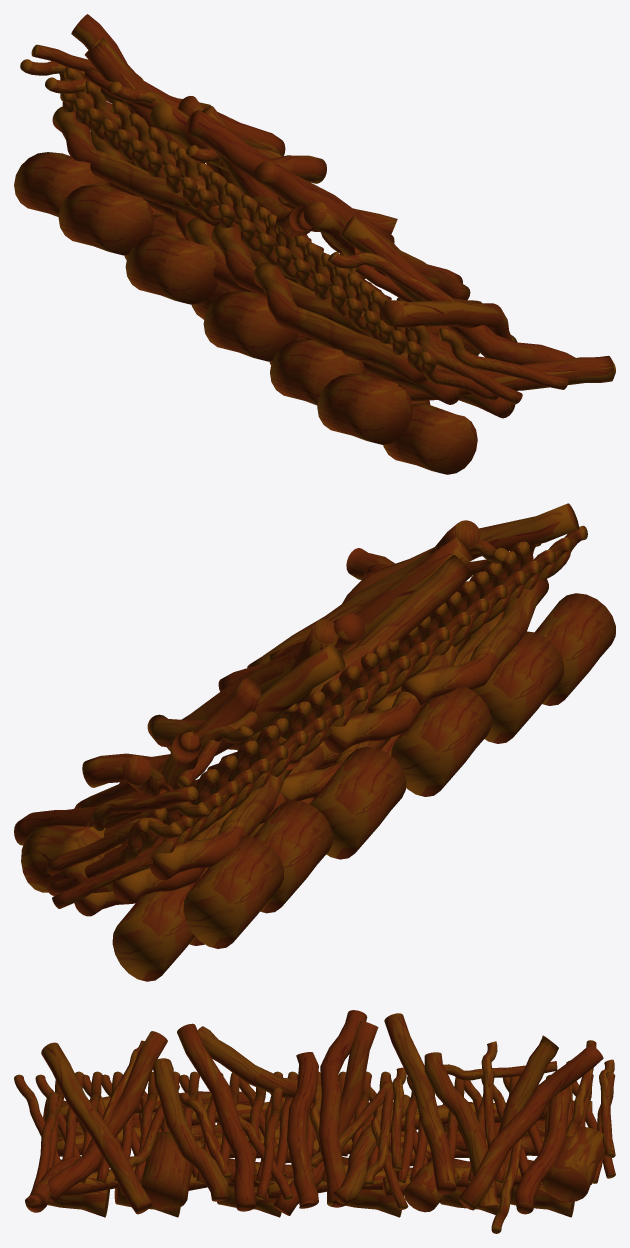
Rendered from beaver_dam.fbx.
3 views of the same model, one above another, from view 1: azimuth 30°, elevation 25°; view 2: azimuth 150°, elevation 25°; view 3: azimuth 270°, elevation 25° (orthographic). The views are drawn at different scales.
Visible parts, largest first — view 1: Stump.006, Stump.003, Stump.007, Branch1_2.010, Stump.009, Stump.004, Branch1_4, Branch1_2.004, Stump.005, Stump.014, Branch1_3.001, Branch1_2.003 (+23 smaller); view 2: Stump.014, Stump.004, Stump.003, Stump.005, Stump.013, Stump.006, Branch1_2.010, Stump.007, Branch1_2, Branch1_2.004, Branch2.003, Stump.001 (+28 smaller); view 3: Branch1_5, Branch1_3, Branch1_3.001, Branch1_2, Branch1.001, Branch1_4, Branch2, Branch2.002, Stump.001, Stump.002, Branch2.005, Branch1_5.001 (+62 smaller).
Boxes of the visible parts, x1,y1,x2,y2 form: Stump.006: (317, 374, 412, 444); Stump.003: (125, 233, 219, 304); Stump.007: (58, 184, 154, 255); Branch1_2.010: (253, 262, 427, 384); Stump.009: (383, 404, 477, 474); Stump.004: (203, 290, 298, 361); Branch1_4: (340, 215, 575, 364); Branch1_2.004: (52, 106, 220, 226); Stump.005: (270, 339, 365, 405); Stump.014: (14, 152, 109, 216); Branch1_3.001: (381, 300, 517, 342); Branch1_2.003: (211, 223, 369, 336); Stump.014: (183, 836, 283, 948); Stump.004: (391, 686, 491, 796); Stump.003: (310, 746, 406, 859); Stump.005: (472, 631, 563, 743); Stump.013: (112, 879, 199, 981); Stump.006: (534, 593, 615, 705); Branch1_2.010: (401, 578, 548, 705); Stump.007: (253, 800, 332, 913); Branch1_2: (82, 645, 345, 787); Branch1_2.004: (149, 769, 292, 880); Branch2.003: (309, 555, 471, 706); Stump.001: (21, 825, 121, 892); Branch1_5: (458, 1044, 603, 1210); Branch1_3: (177, 1023, 255, 1211); Branch1_3.001: (41, 1042, 152, 1214); Branch1_2: (384, 1013, 456, 1194); Branch1.001: (318, 1010, 367, 1207); Branch1_4: (48, 1031, 167, 1202); Branch2: (286, 1052, 318, 1208); Branch2.002: (153, 1058, 228, 1201); Stump.001: (542, 1126, 604, 1201); Stump.002: (142, 1131, 192, 1210); Branch2.005: (424, 1052, 499, 1207); Branch1_5.001: (273, 1020, 378, 1215).
Size of the model in its own units: 573 by 536 by 1565.
1 material, 1 textured.
